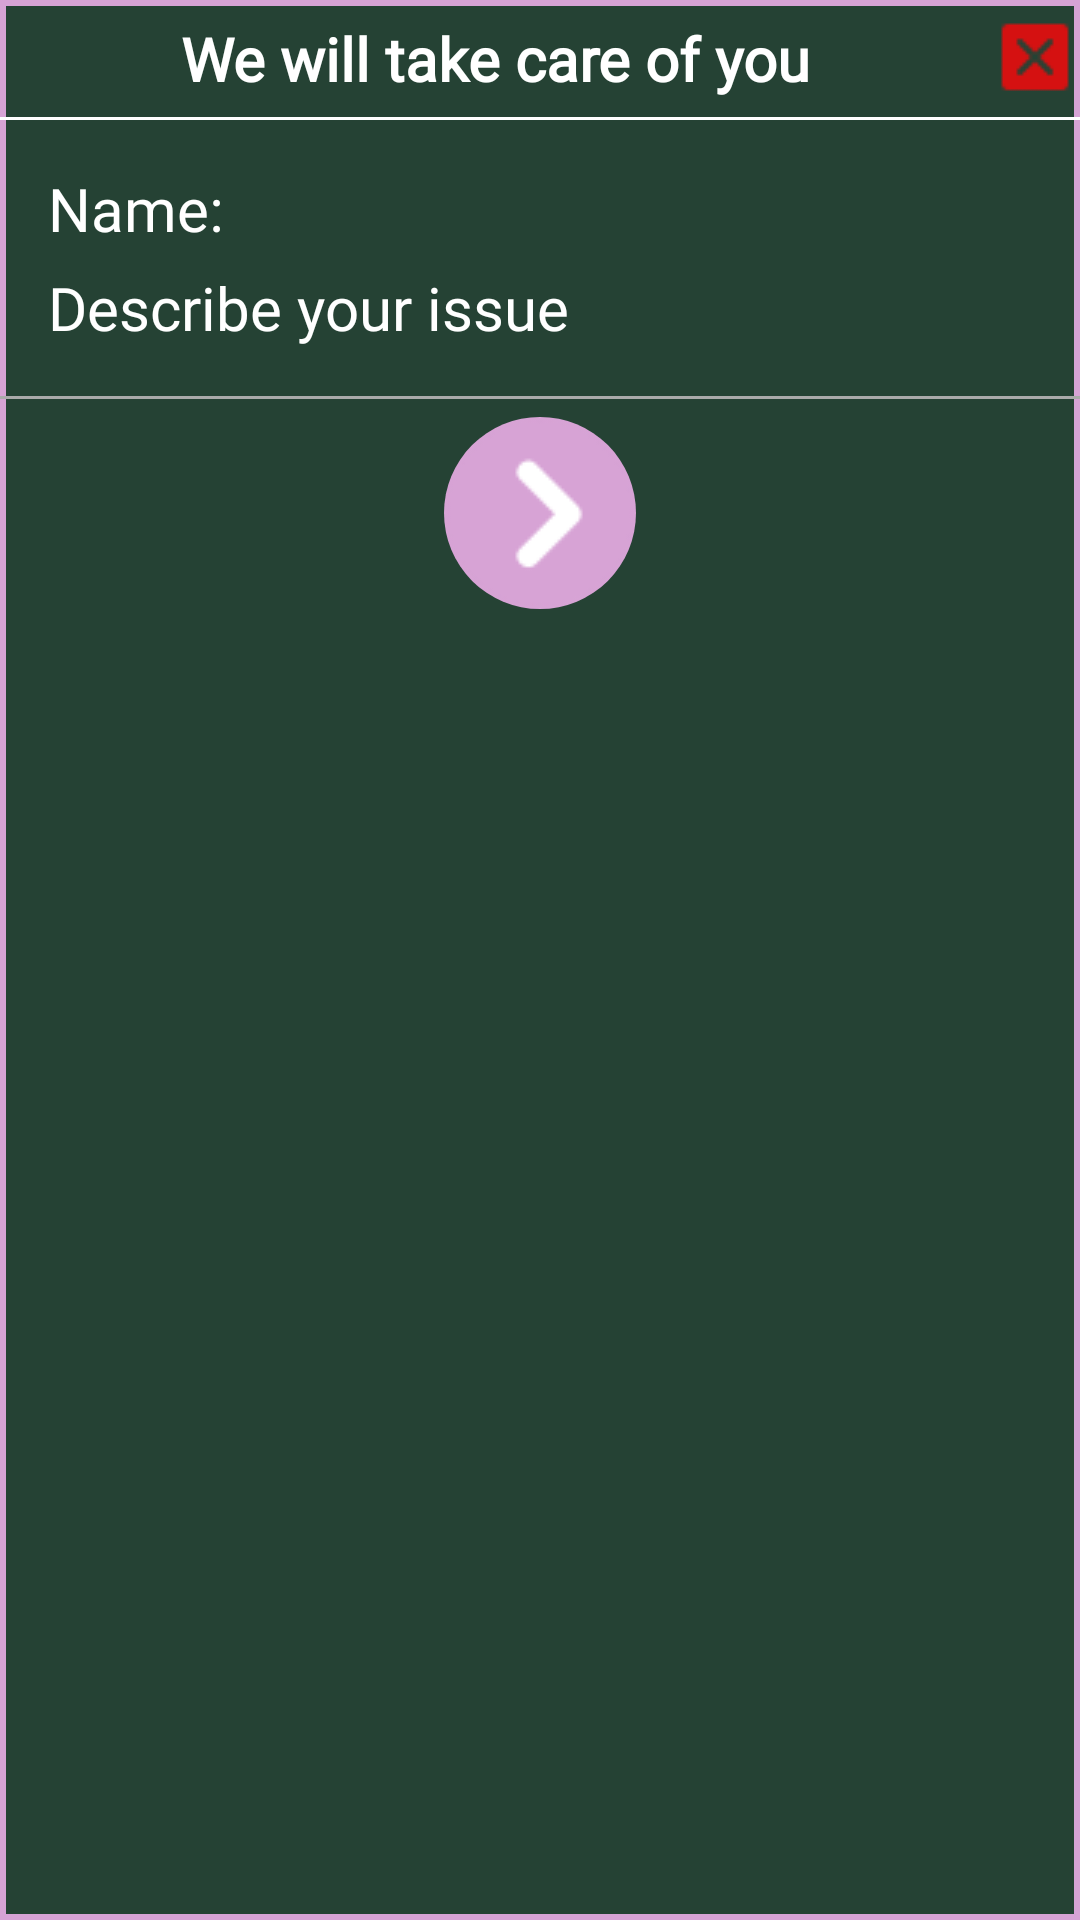

Named icons in this screenshot (1080 × 1920) and their bounding boxes, (x1, y1, x2, y2):
cross: (1001, 23, 1069, 91)
next: (444, 417, 636, 609)
